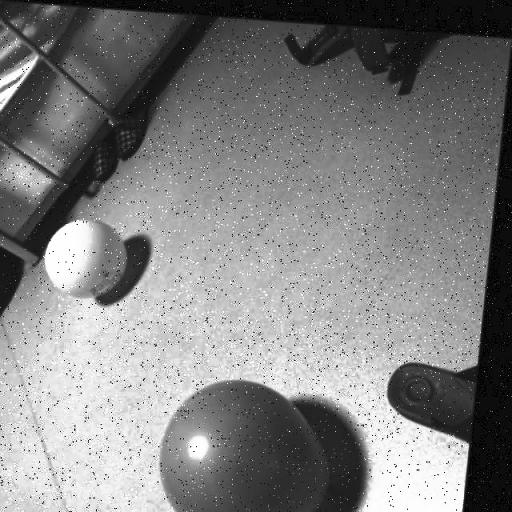balloon: (164, 369, 357, 512), (45, 209, 139, 312)
